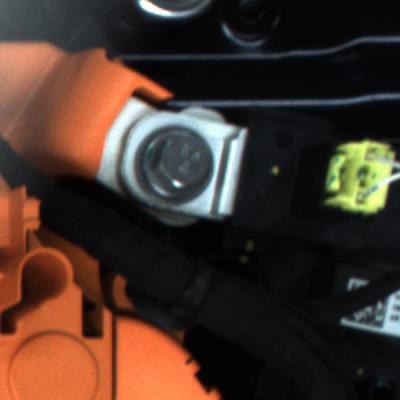nut_b: (120, 117, 229, 222)
